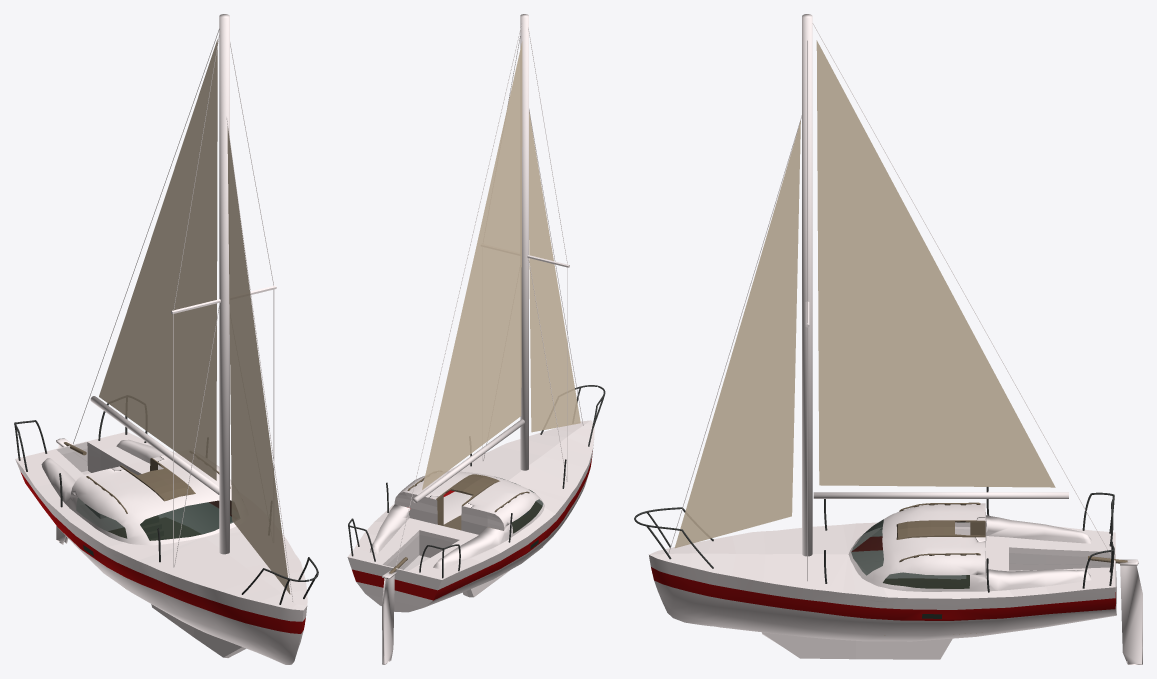
Rendered from Vagabond.obj.
3 views of the same model, side by side, from view 1: azimuth 30°, elevation 25°; view 2: azimuth 150°, elevation 25°; view 3: azimuth 270°, elevation 25° (orthographic). The views are drawn at different scales.
Size of the model in its own units: 1.88 by 7.33 by 5.22.
